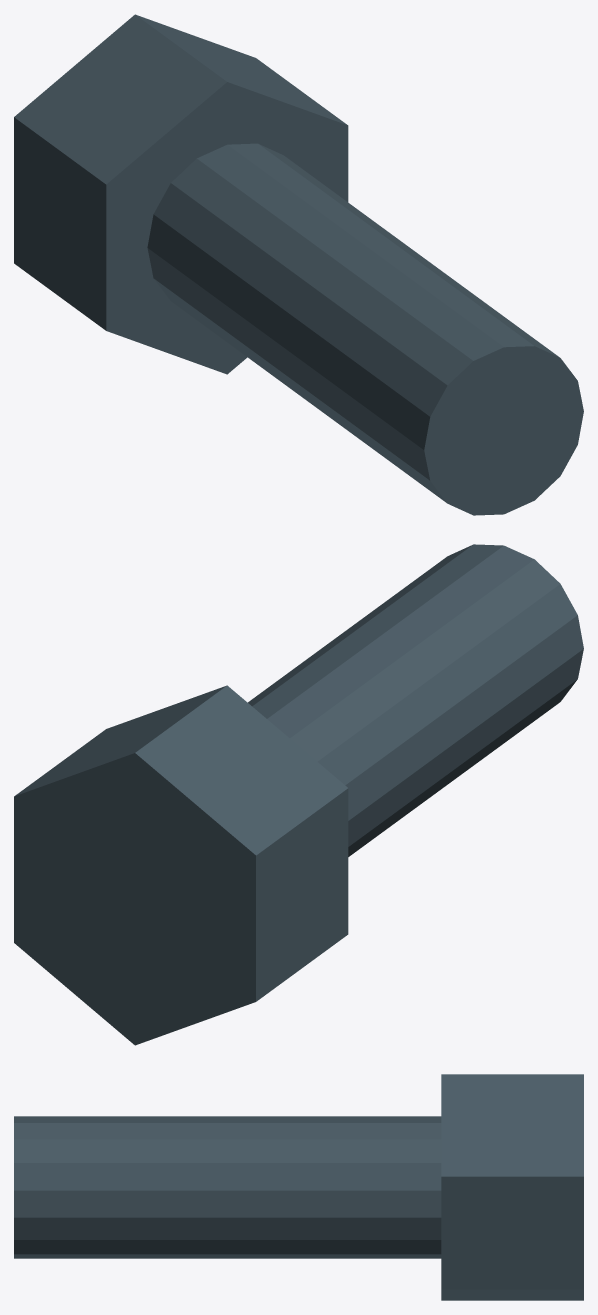
The model's file is kit_bolt_4.obj.
3 views of the same model, one above another, from view 1: azimuth 30°, elevation 25°; view 2: azimuth 150°, elevation 25°; view 3: azimuth 270°, elevation 25° (orthographic). The views are drawn at different scales.
Parts seen in each view (by area): view 1: kit_bolt_4; view 2: kit_bolt_4; view 3: kit_bolt_4.
Boxes of the visible parts, <box> form: kit_bolt_4: <box>14,14,583,515</box>; kit_bolt_4: <box>14,544,583,1045</box>; kit_bolt_4: <box>14,1074,583,1300</box>.
Size of the model in its own units: 0.00606 by 0.007 by 0.016.
